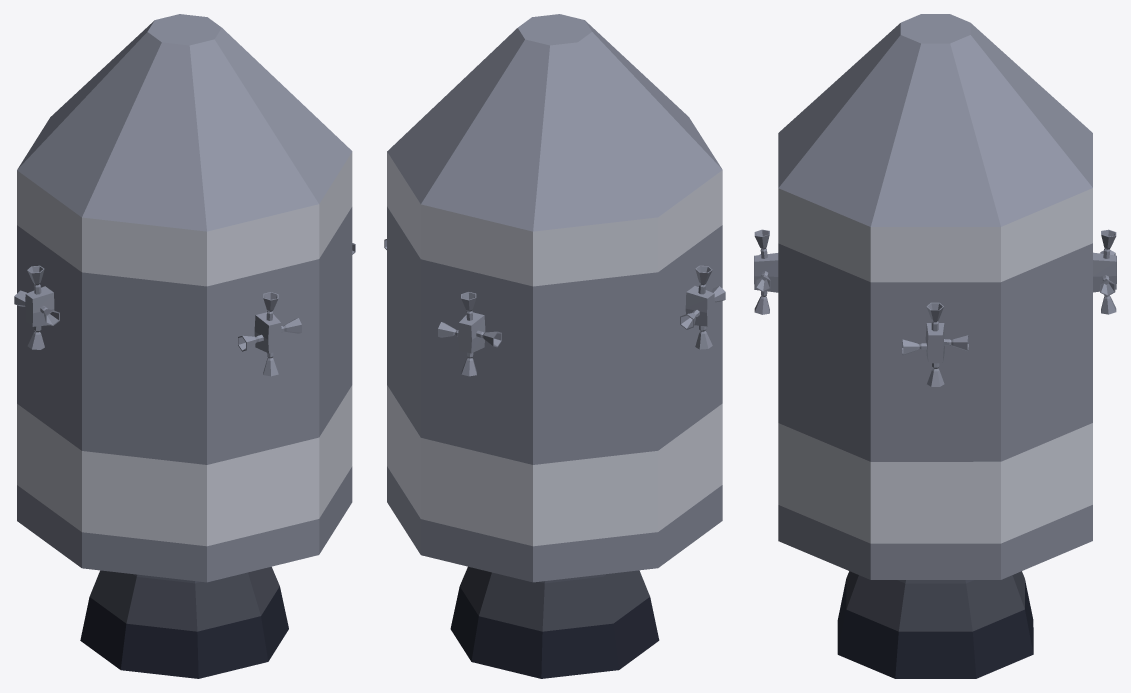
File: moonOrbiter.fbx
3 views of the same model, side by side, from view 1: azimuth 30°, elevation 25°; view 2: azimuth 150°, elevation 25°; view 3: azimuth 270°, elevation 25° (orthographic).
Visible parts, largest first — view 1: command_mod_1; view 2: command_mod_1; view 3: command_mod_1.
Boxes of the visible parts, box(x1,y1,x2,y2) form: command_mod_1: box(14, 14, 355, 678); command_mod_1: box(384, 14, 725, 678); command_mod_1: box(754, 14, 1116, 678).
Size of the model in its own units: 132 by 245 by 132.
